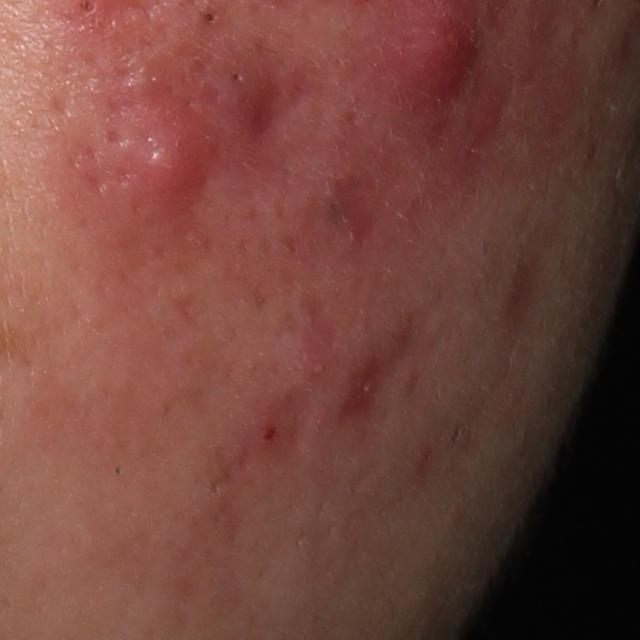comedo: (199, 9, 223, 29), (224, 68, 243, 85)
papule: (121, 102, 223, 220), (230, 81, 277, 142), (251, 412, 293, 454)
